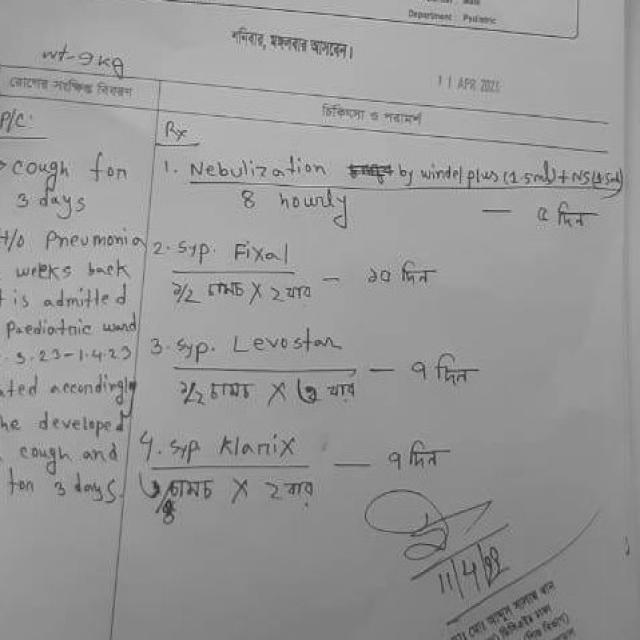medicine: (185, 151, 332, 189), (226, 327, 342, 362), (212, 426, 302, 464), (225, 233, 298, 270)
